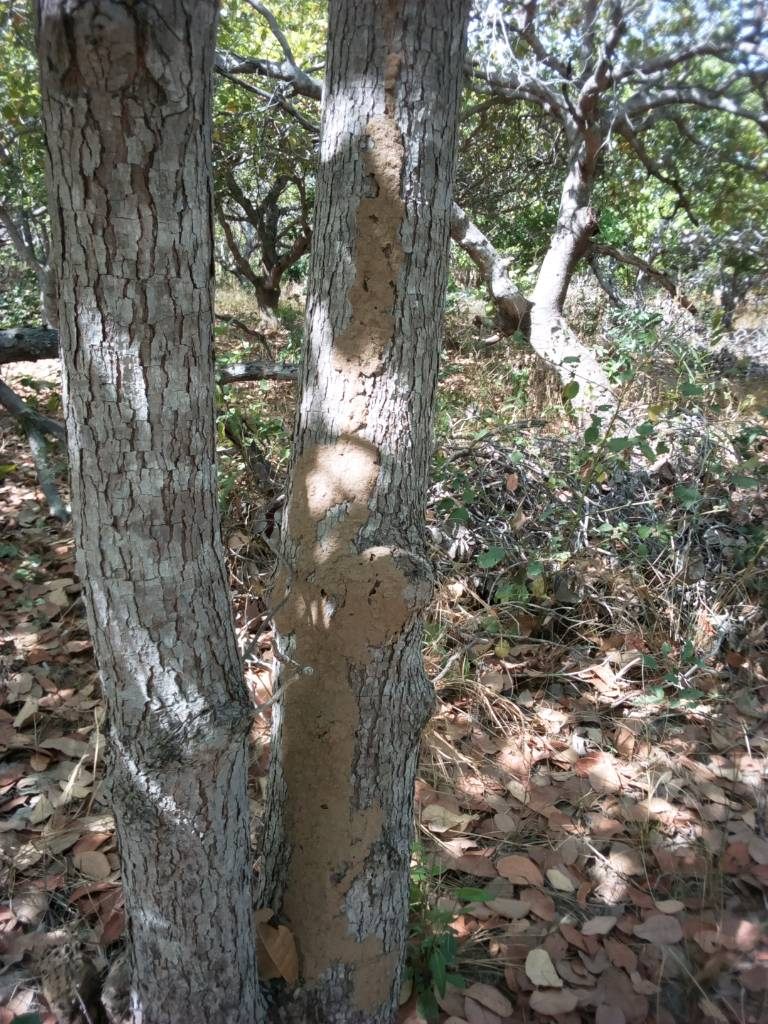Termites: (272, 541, 407, 1005), (286, 41, 413, 532)
